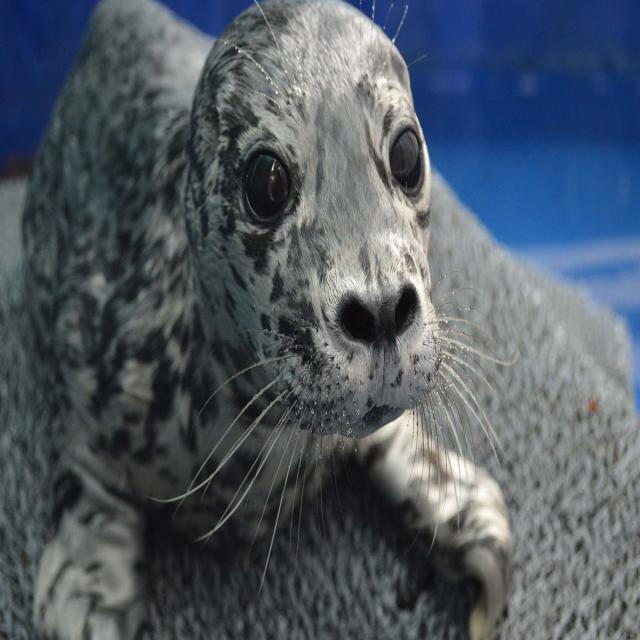WaterDog: (35, 0, 437, 640)
